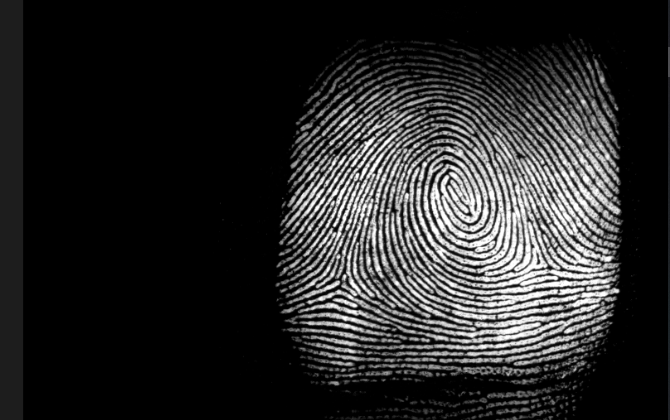deltas: (318, 256, 369, 306), (517, 233, 564, 278)
nucleo: (438, 162, 486, 219)
